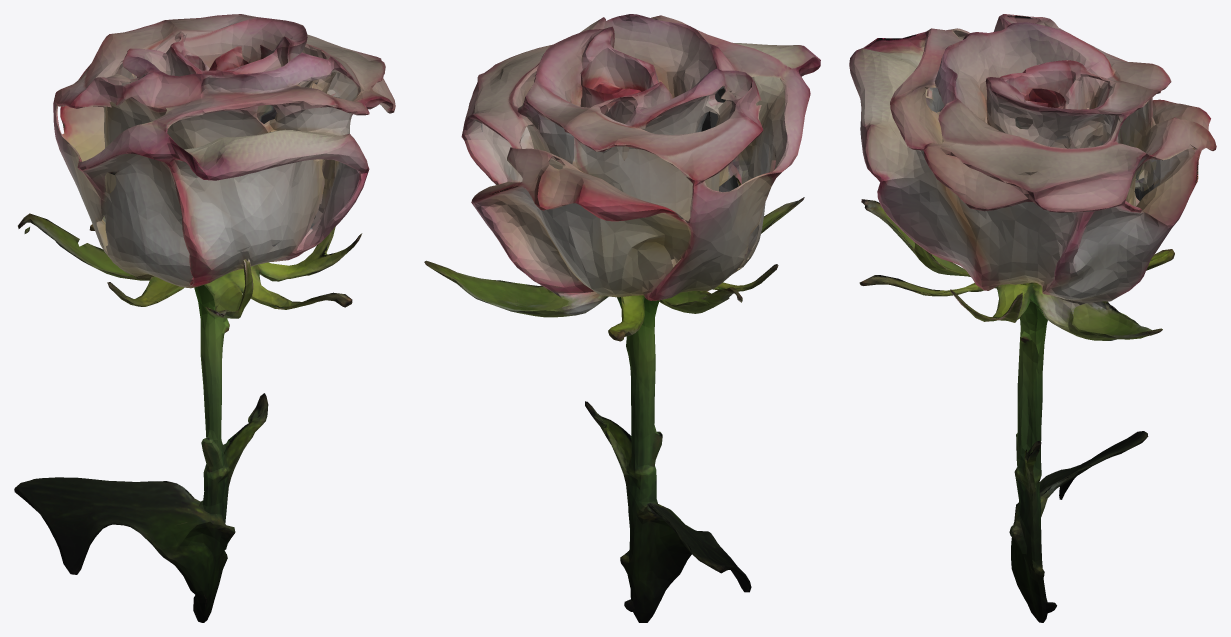
3 renders of one model, left to right at view 1: azimuth 30°, elevation 25°; view 2: azimuth 150°, elevation 25°; view 3: azimuth 270°, elevation 25°, orthographic. The views are drawn at different scales.
Parts seen in each view (by area): view 1: world; view 2: world; view 3: world.
Boxes of the visible parts, <box> form: world: <box>14,14,395,622</box>; world: <box>424,14,820,622</box>; world: <box>849,14,1216,622</box>.
Bounding box in the file's own units: 0.5629 × 0.9892 × 0.5721.
1 material, 1 textured.
